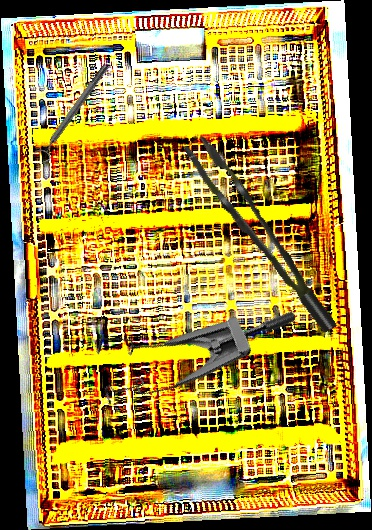Fixation Ring: (31, 60, 115, 166)
Speculum: (73, 237, 301, 439)
Tissue Forceps: (183, 123, 337, 350)
